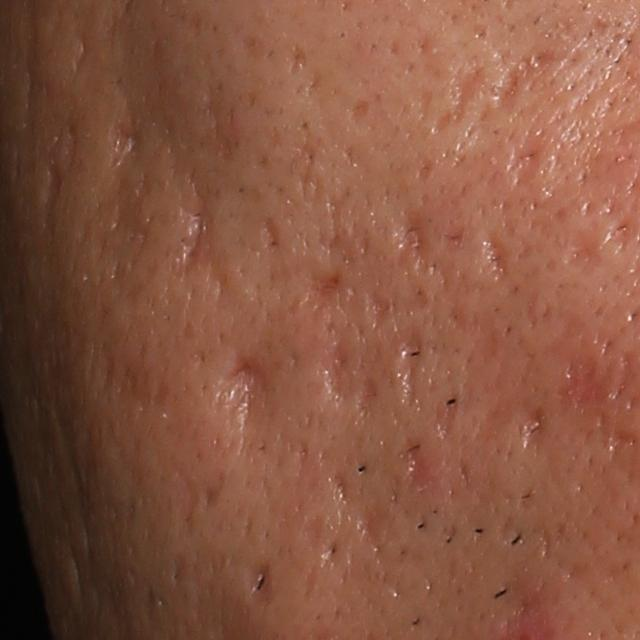atrophic_scar: (93, 104, 153, 269), (93, 328, 173, 422), (213, 351, 283, 438), (176, 173, 219, 267), (167, 467, 225, 534), (320, 198, 373, 266), (557, 352, 614, 415), (42, 128, 75, 234), (423, 73, 479, 135), (500, 55, 555, 108), (393, 328, 422, 417), (502, 135, 545, 191), (564, 223, 606, 279), (400, 438, 438, 493), (362, 285, 400, 340), (400, 206, 433, 259), (481, 229, 515, 280), (515, 402, 554, 445), (305, 267, 344, 309), (250, 562, 283, 605), (361, 502, 392, 547), (256, 213, 286, 259), (323, 468, 352, 502), (290, 42, 309, 73), (348, 98, 371, 123)
